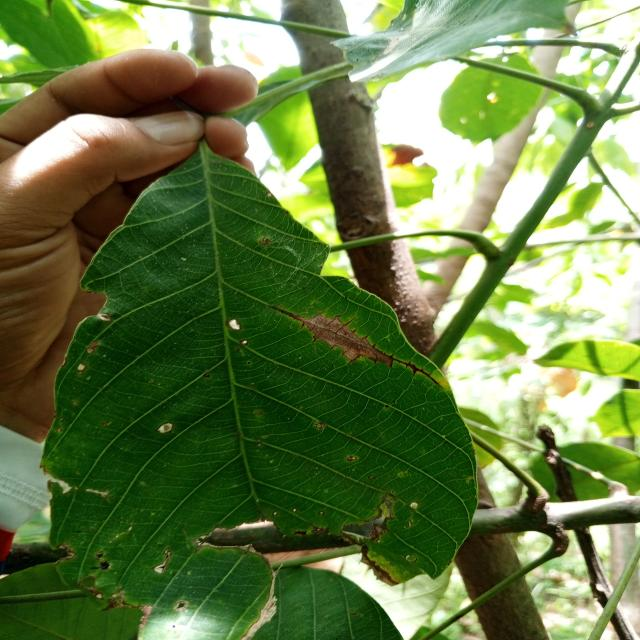Colletotrichum: (315, 423, 322, 428), (318, 511, 325, 515), (292, 508, 298, 512), (273, 512, 278, 516), (247, 362, 251, 364)
Corynespora: (269, 304, 443, 390)
Leaf-Blight: (241, 571, 277, 640)
